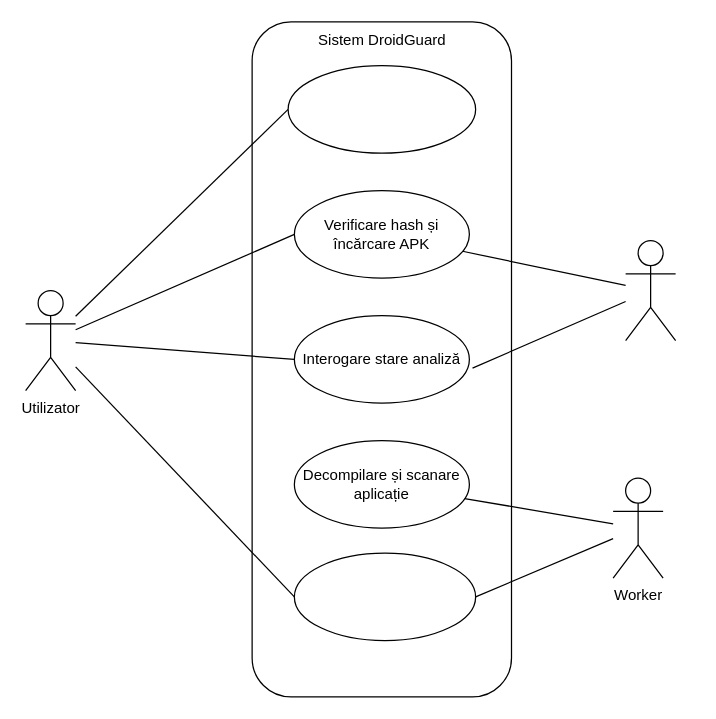
This 716x719 diagram has some shape labels left out. Each missing label, with the box of its shape:
API Gateway: (624, 239, 676, 341)
Generare / Salvare raport JSON: (293, 552, 476, 641)
Selectare aplicație pentru scanare: (287, 64, 476, 153)
